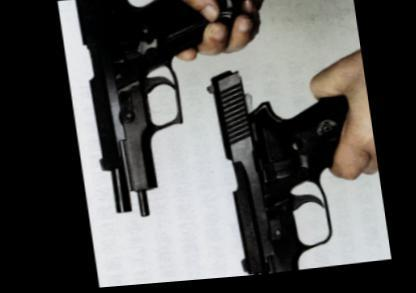pistol: (67, 0, 268, 223), (200, 61, 368, 279)
